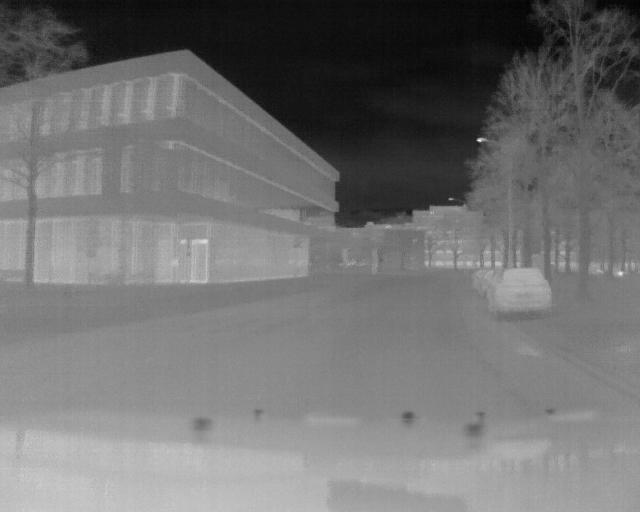car: (483, 266, 557, 319)
